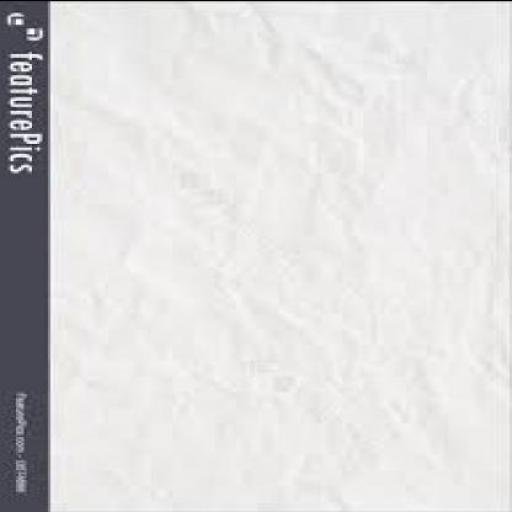paper: (52, 1, 510, 511)
